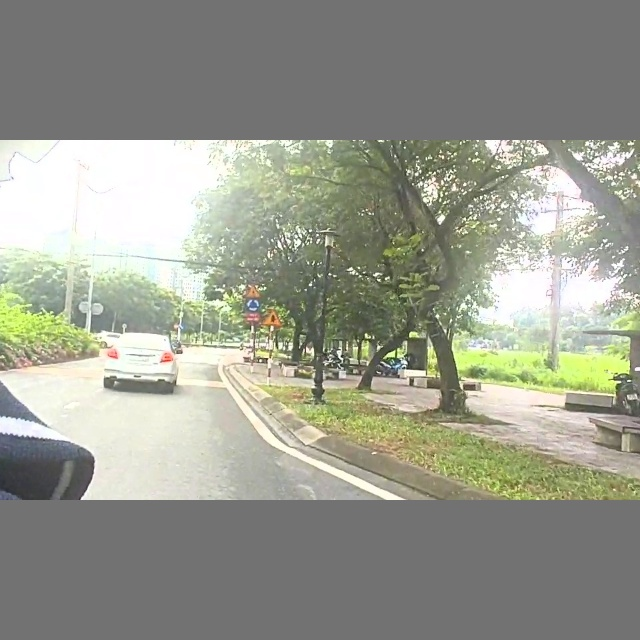P.102: (173, 323, 179, 329)
R.302a: (179, 324, 187, 332)
R.303: (243, 299, 263, 313)
W.207: (263, 309, 283, 327)
W.224: (244, 285, 262, 299)
